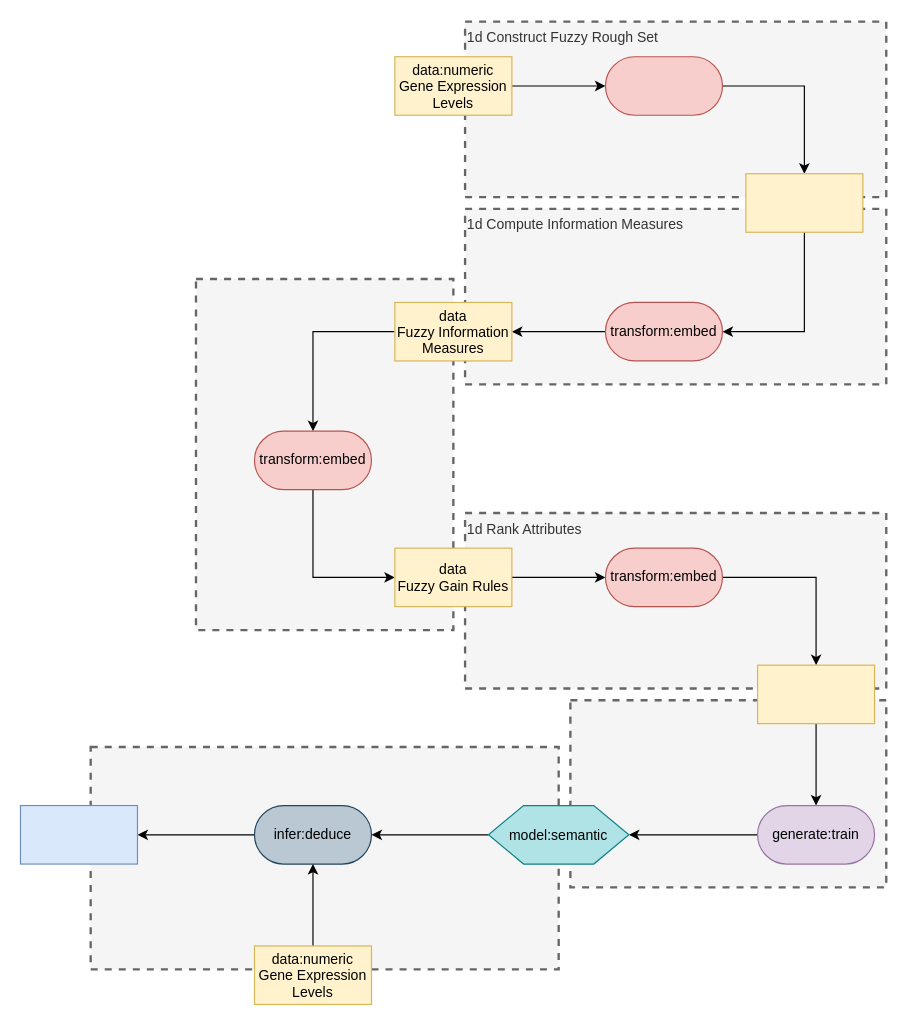
The diagram is 908 pixels wide and 1025 high, and some of its shapes have lost their labels. The shapes that lost their labels are listed below. From the top down, each one's box as (x1, y1, x2, y2) in pixels, then its label:
(604, 56, 722, 115): transform:embed Fuzzy Rough Set
(745, 173, 863, 232): data Fuzzy Equivalence Relations and Lower + Upper Approx.
(194, 277, 454, 631): 1d Calculate Fuzzy Gain Ratio
(756, 664, 875, 724): data Selected Attributes
(569, 698, 887, 888): 1a Train Classification Model
(19, 804, 137, 864): symbol:label Tumor Class
(89, 745, 559, 970): 2a Classify Tumor
